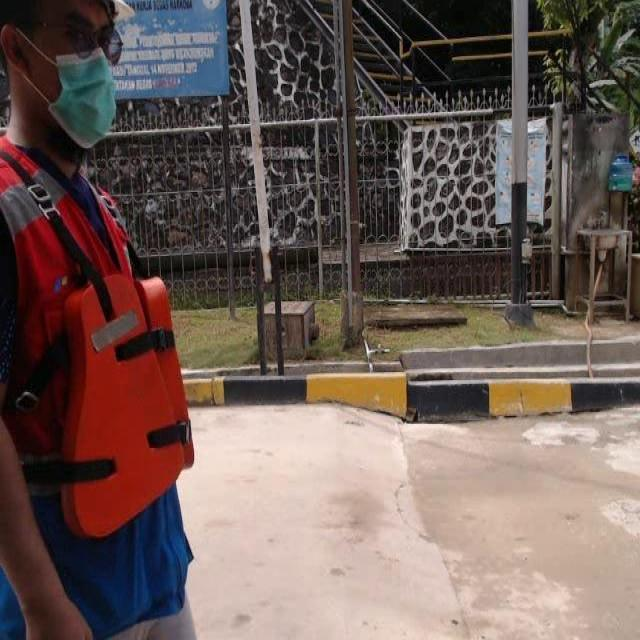Vest: (44, 264, 200, 544)
